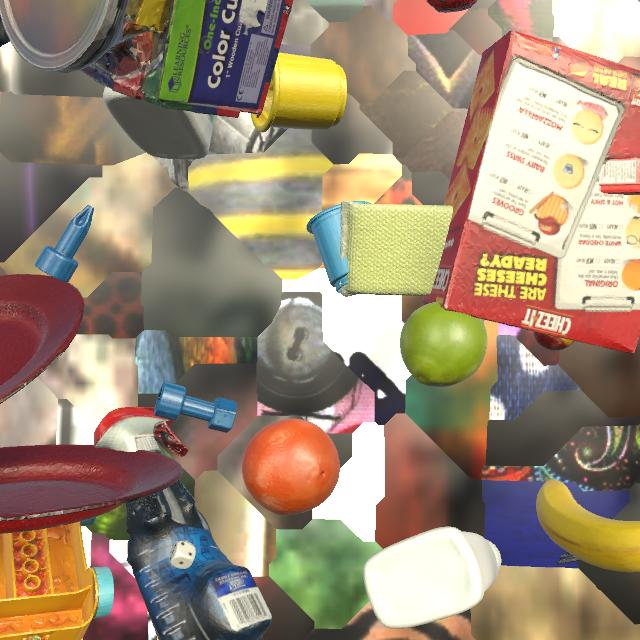ycb_003_cracker_box: (423, 30, 640, 354)
ycb_009_gelatin_box: (599, 158, 640, 195)
ycb_011_banana: (536, 479, 640, 572)
ycb_012_strawberry: (426, 0, 478, 13)
ycb_016_pear: (400, 302, 487, 387)
ycb_017_orange: (242, 419, 340, 515)
